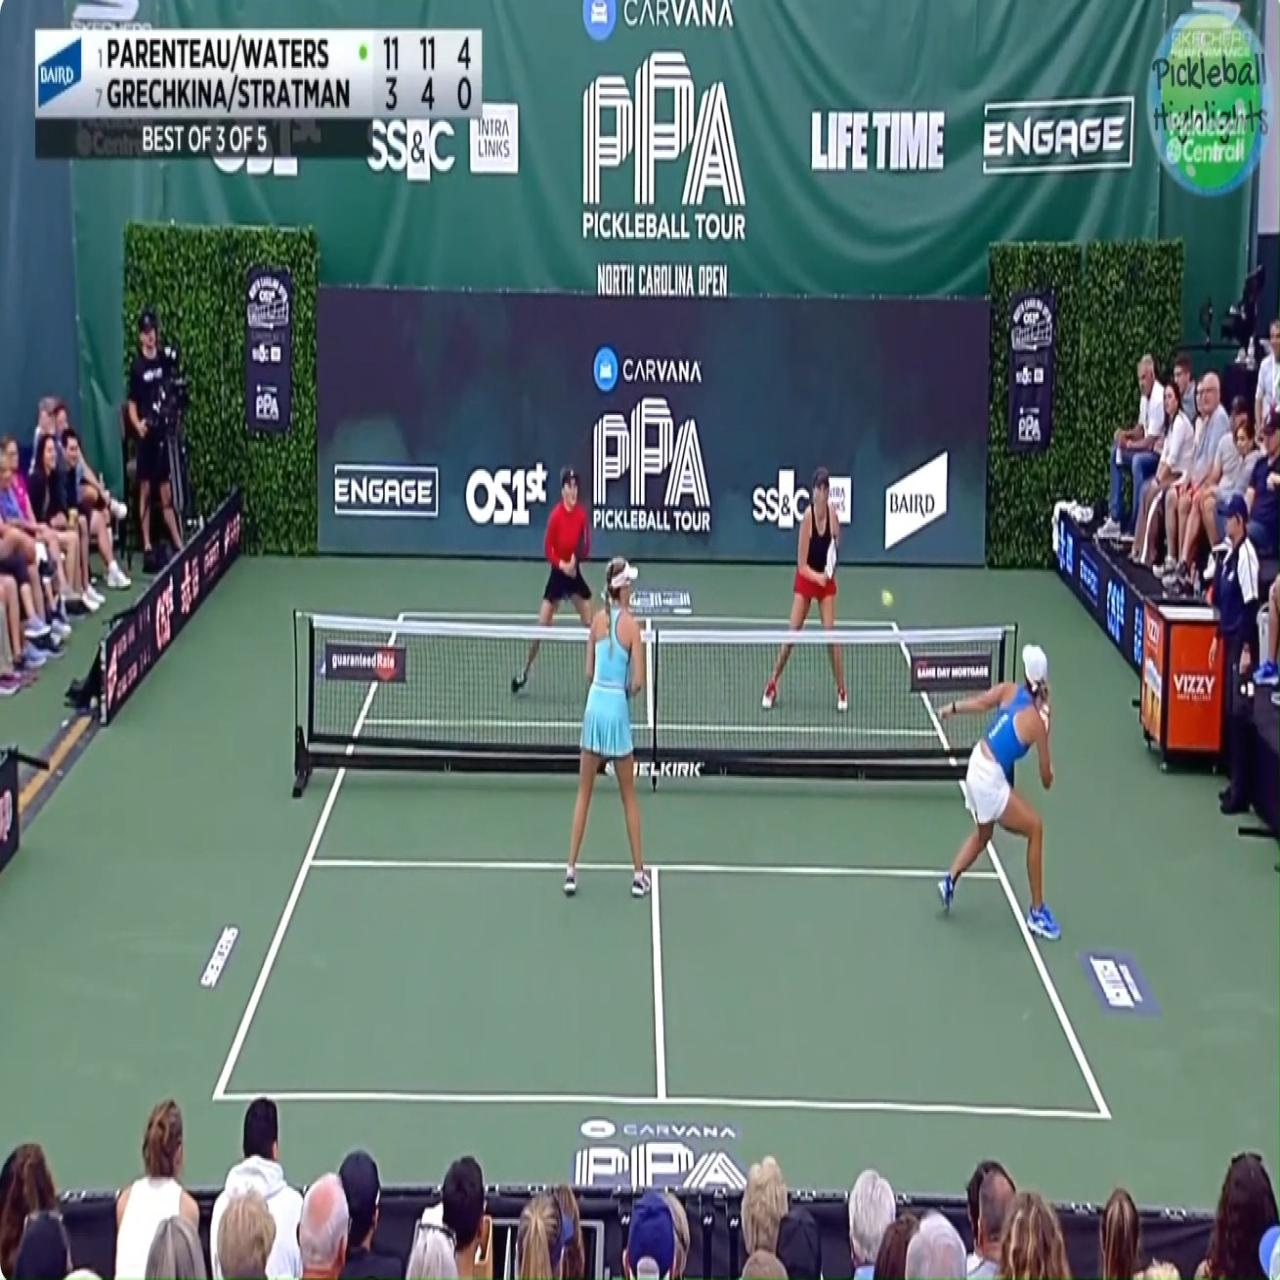pickleball: (880, 587, 893, 608)
